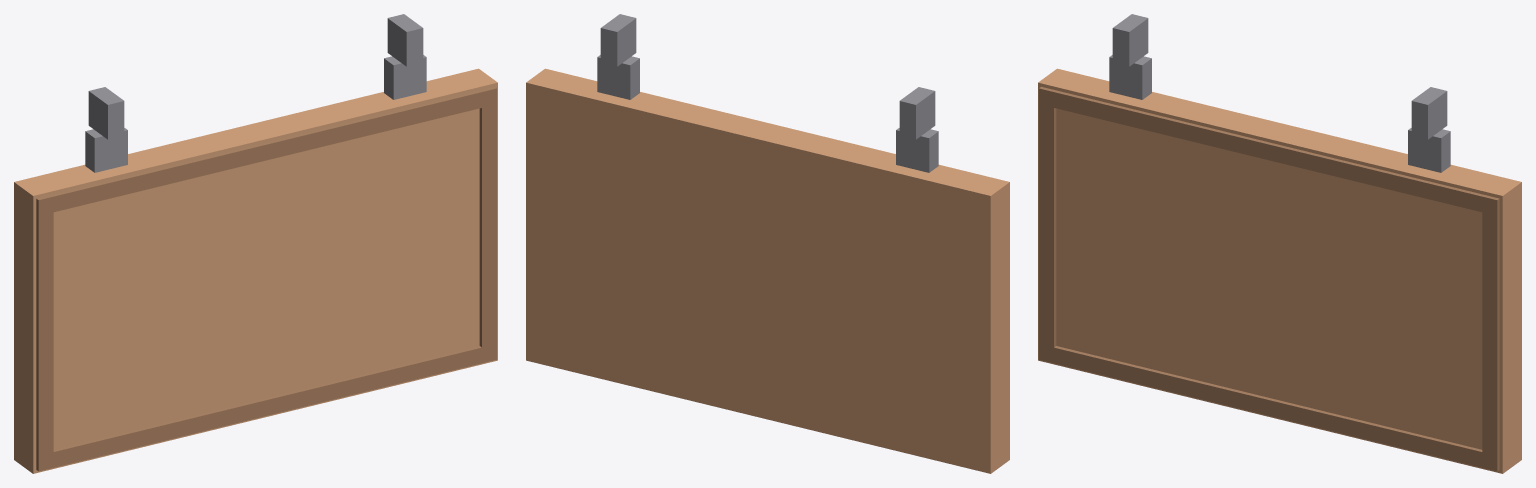
Rendered from sign_acacia_hang.gltf.
The picture shows the model from 3 angles, left to right: view 1: azimuth 30°, elevation 25°; view 2: azimuth 150°, elevation 25°; view 3: azimuth 330°, elevation 25°; orthographic projection.
Parts seen in each view (by area): view 1: sign_acacia_hang; view 2: sign_acacia_hang; view 3: sign_acacia_hang.
Part boxes in pixels (x1=…): sign_acacia_hang: x1=14, y1=14, x2=497, y2=473; sign_acacia_hang: x1=526, y1=14, x2=1009, y2=473; sign_acacia_hang: x1=1038, y1=14, x2=1521, y2=473.
Bounding box in the file's own units: 0.875 × 0.631 × 0.07.
